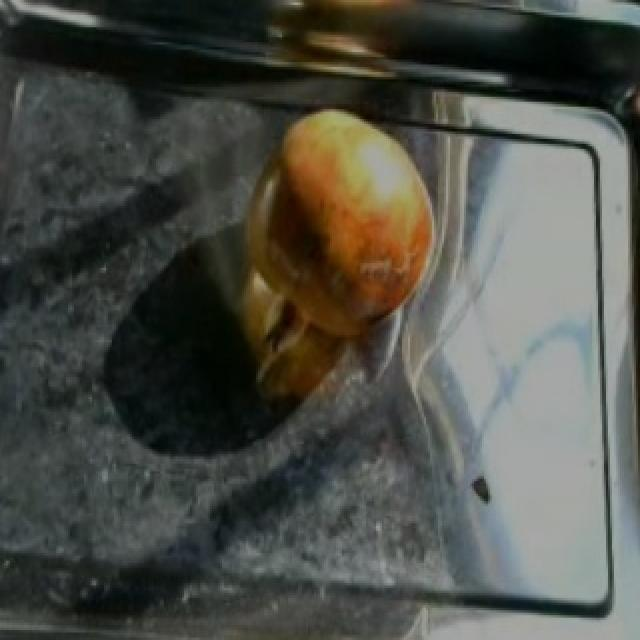fruit: (232, 97, 450, 362)
